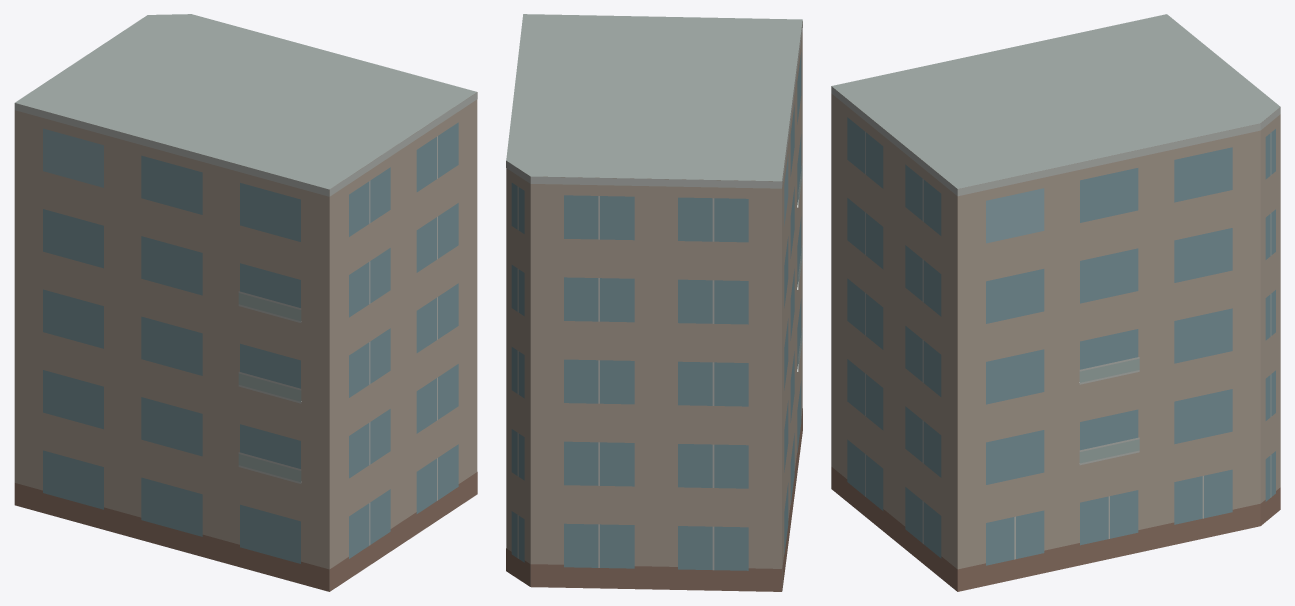
File: survey-upis-32702228.glb
3 renders of one model, left to right at view 1: azimuth 30°, elevation 25°; view 2: azimuth 150°, elevation 25°; view 3: azimuth 270°, elevation 25°, orthographic. The views are drawn at different scales.
Visible parts, largest first — view 1: survey-upis-32702228.tmp; view 2: survey-upis-32702228.tmp; view 3: survey-upis-32702228.tmp.
Boxes of the visible parts, bbox=[...] form: survey-upis-32702228.tmp: bbox=[14, 14, 477, 591]; survey-upis-32702228.tmp: bbox=[506, 14, 802, 591]; survey-upis-32702228.tmp: bbox=[831, 14, 1280, 591].
Bounding box in the file's own units: 12.59 × 13.5 × 13.66.
